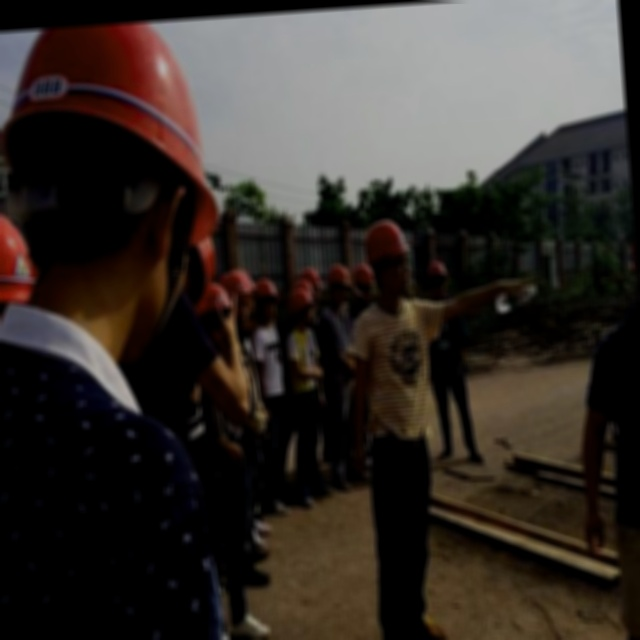Con_Casco: (0, 18, 227, 340), (363, 216, 413, 306), (427, 258, 447, 300)
Sin_Chaleco: (354, 301, 438, 448)
